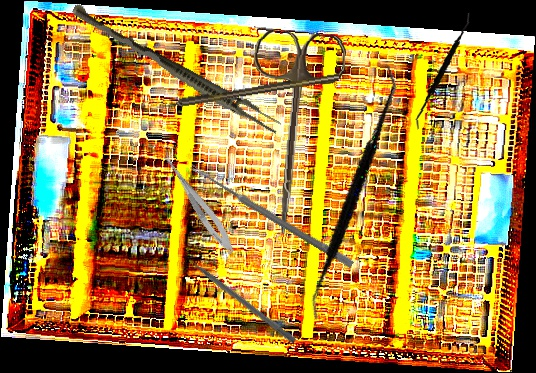Hook Surgical: (150, 72, 341, 112)
Iris Scissors: (242, 30, 347, 237)
Micro Scissor: (154, 148, 240, 257)
Pusher: (179, 249, 298, 345)
Spatula Surgical: (259, 64, 444, 321), (404, 12, 483, 130)
Surgical Spoon: (188, 162, 355, 269)
Tissue Forceps: (66, 2, 285, 137)
